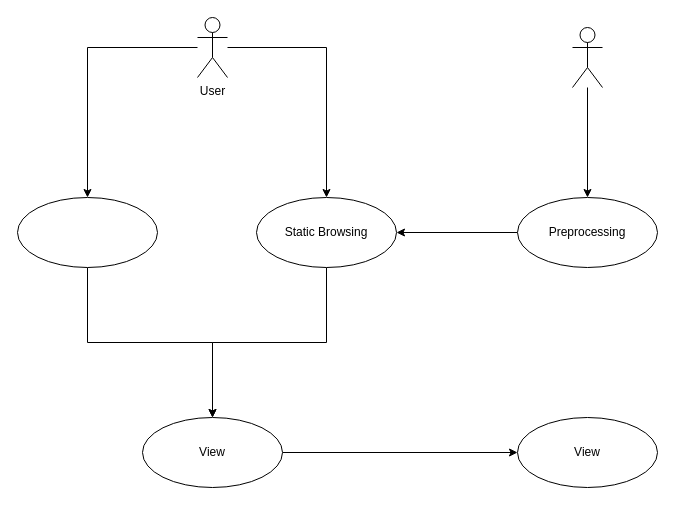
Some shapes in this 675 by 505 pixel diagram are drawn without their labels. The shapes that lost their labels are listed below. From the top down, each one's centre as x and y in pixels, then its label:
At pixel 587 57: "Technical User".
At pixel 87 232: "Dynamic Browsing".
